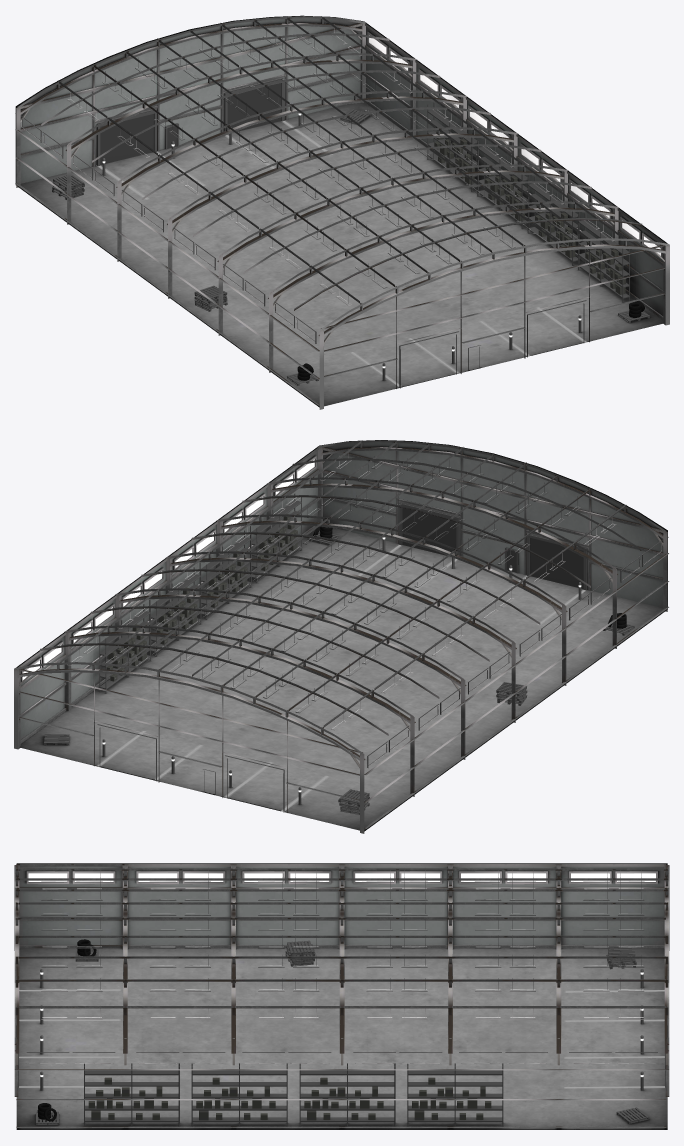
File: warehouse_scene.glb
The picture shows the model from 3 angles, top to bottom: view 1: azimuth 30°, elevation 25°; view 2: azimuth 150°, elevation 25°; view 3: azimuth 270°, elevation 25°; orthographic projection. The views are drawn at different scales.
Visible parts, largest first — view 1: building, support, shelves, support.002, support2, support2.001, lights, windows, support.003, support.001; view 2: building, support, shelves, support.002, support2, support2.001, lights, windows, support.003, support.001; view 3: building, support, shelves, windows, lights, support.003, support.002, support.001, lights.001, support2.001, support2.
Boxes of the visible parts, x1,y1,x2,y2 form: building: (15,15,667,407); support: (15,16,618,372); shelves: (427,102,629,302); support.002: (15,16,669,409); support2: (20,19,664,388); support2.001: (96,79,586,388); lights: (67,24,614,305); windows: (21,31,662,343); support.003: (268,201,665,405); support.001: (189,29,494,259); building: (16,440,667,831); support: (18,477,618,828); shelves: (99,493,301,693); support.002: (14,440,668,833); support2: (19,443,663,812); support2.001: (97,503,586,812); lights: (67,449,616,730); windows: (20,456,662,767); support.003: (271,440,669,643); support.001: (192,454,494,676); building: (16,863,667,1129); support: (122,864,666,1127); shelves: (84,1063,503,1126); windows: (26,871,657,1063); lights: (41,871,644,1019); support.003: (16,864,124,1127); support.002: (14,865,669,1065); support.001: (15,917,665,925); lights.001: (41,920,643,930); support2.001: (18,969,665,1090); support2: (14,865,669,1096).
Size of the model in its own units: 32.78 by 10.34 by 49.47.
Materials: 4 (4 with a texture image).
